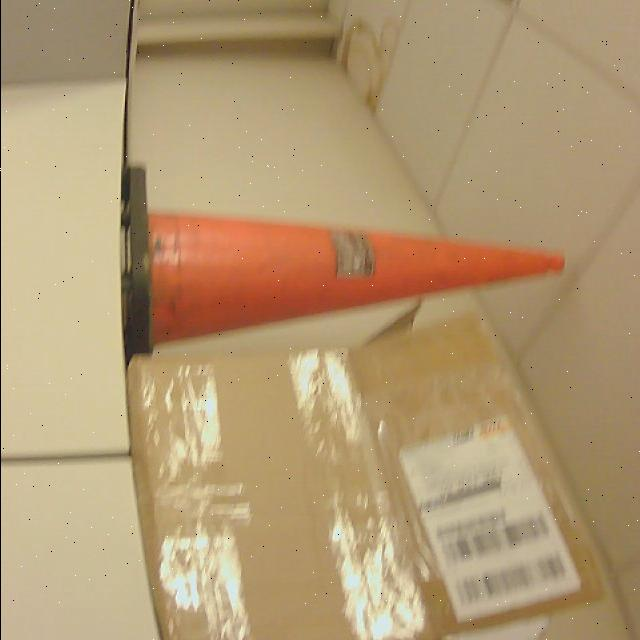traffic cone: (124, 168, 565, 355)
